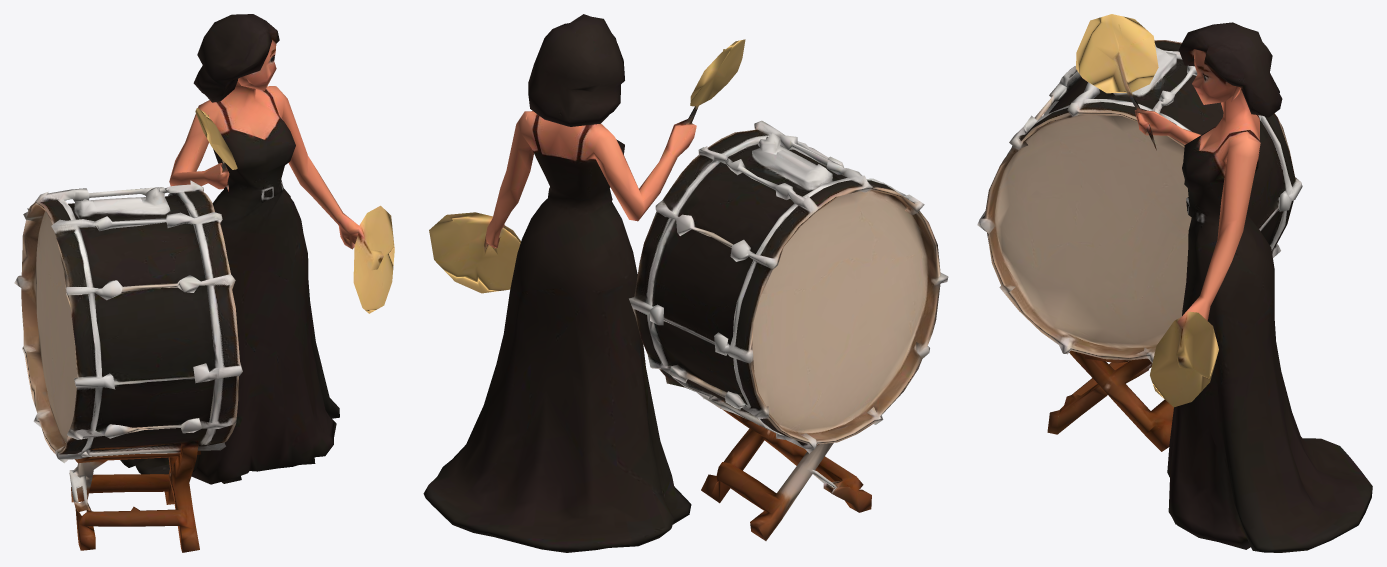
The model's file is bassdrummer.glb.
The picture shows the model from 3 angles, left to right: view 1: azimuth 30°, elevation 25°; view 2: azimuth 150°, elevation 25°; view 3: azimuth 270°, elevation 25°; orthographic projection. The views are drawn at different scales.
Parts seen in each view (by area): view 1: tripo_node_0bc121c4-5952-438c-a39f-330a15926c94; view 2: tripo_node_0bc121c4-5952-438c-a39f-330a15926c94; view 3: tripo_node_0bc121c4-5952-438c-a39f-330a15926c94.
Part boxes in pixels (x1=…): tripo_node_0bc121c4-5952-438c-a39f-330a15926c94: x1=14, y1=14, x2=394, y2=552; tripo_node_0bc121c4-5952-438c-a39f-330a15926c94: x1=423, y1=14, x2=948, y2=552; tripo_node_0bc121c4-5952-438c-a39f-330a15926c94: x1=977, y1=14, x2=1372, y2=552.
Size of the model in its own units: 1.51 by 1.6 by 1.2.
Materials: 1 (1 with a texture image).
